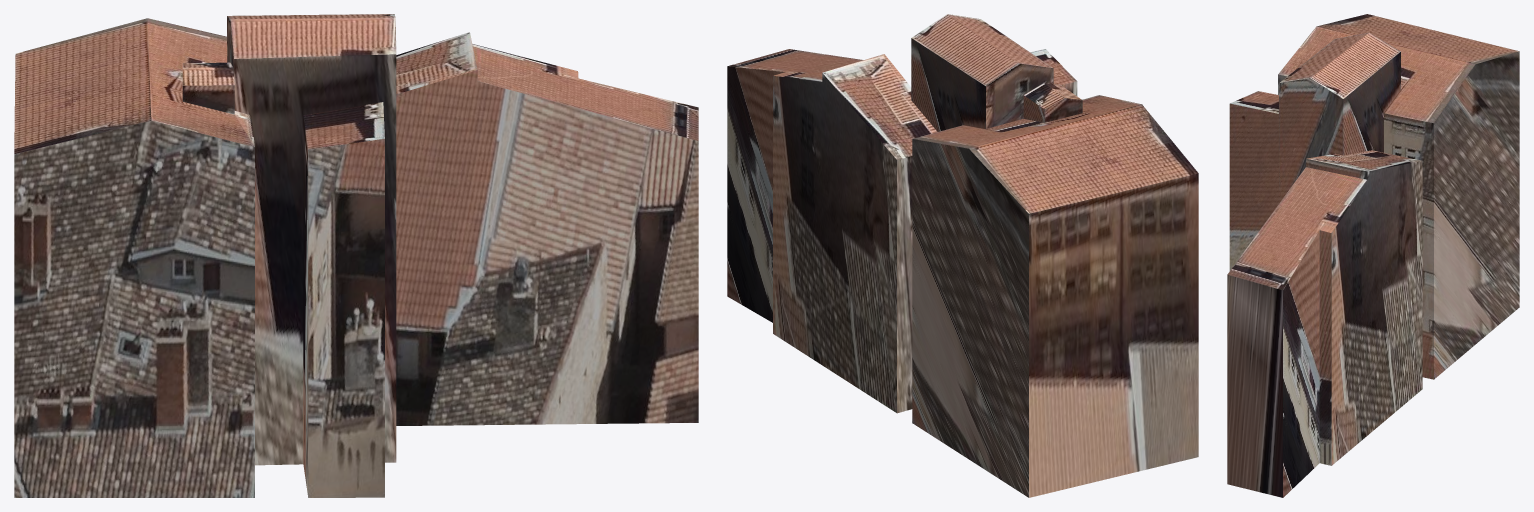
3 renders of one model, left to right at view 1: azimuth 30°, elevation 25°; view 2: azimuth 150°, elevation 25°; view 3: azimuth 270°, elevation 25°, orthographic. The views are drawn at different scales.
Parts seen in each view (by area): view 1: Z_UP; view 2: Z_UP; view 3: Z_UP.
Boxes of the visible parts, bbox=[...] form: Z_UP: bbox=[14, 14, 698, 497]; Z_UP: bbox=[727, 14, 1198, 497]; Z_UP: bbox=[1227, 14, 1519, 497].
Size of the model in its own units: 32.36 by 20.93 by 17.52.
2 materials, 1 textured.
